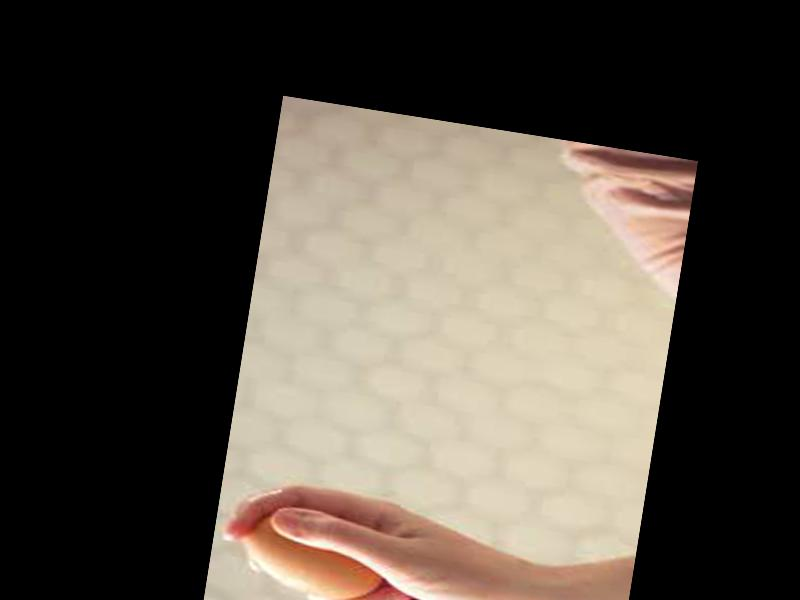Eggs: (238, 506, 389, 600)
